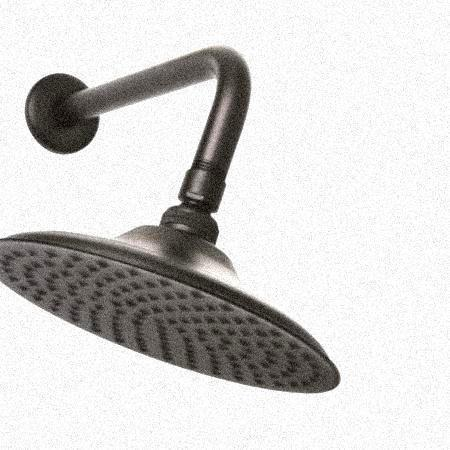Ducha: (0, 30, 346, 404)
